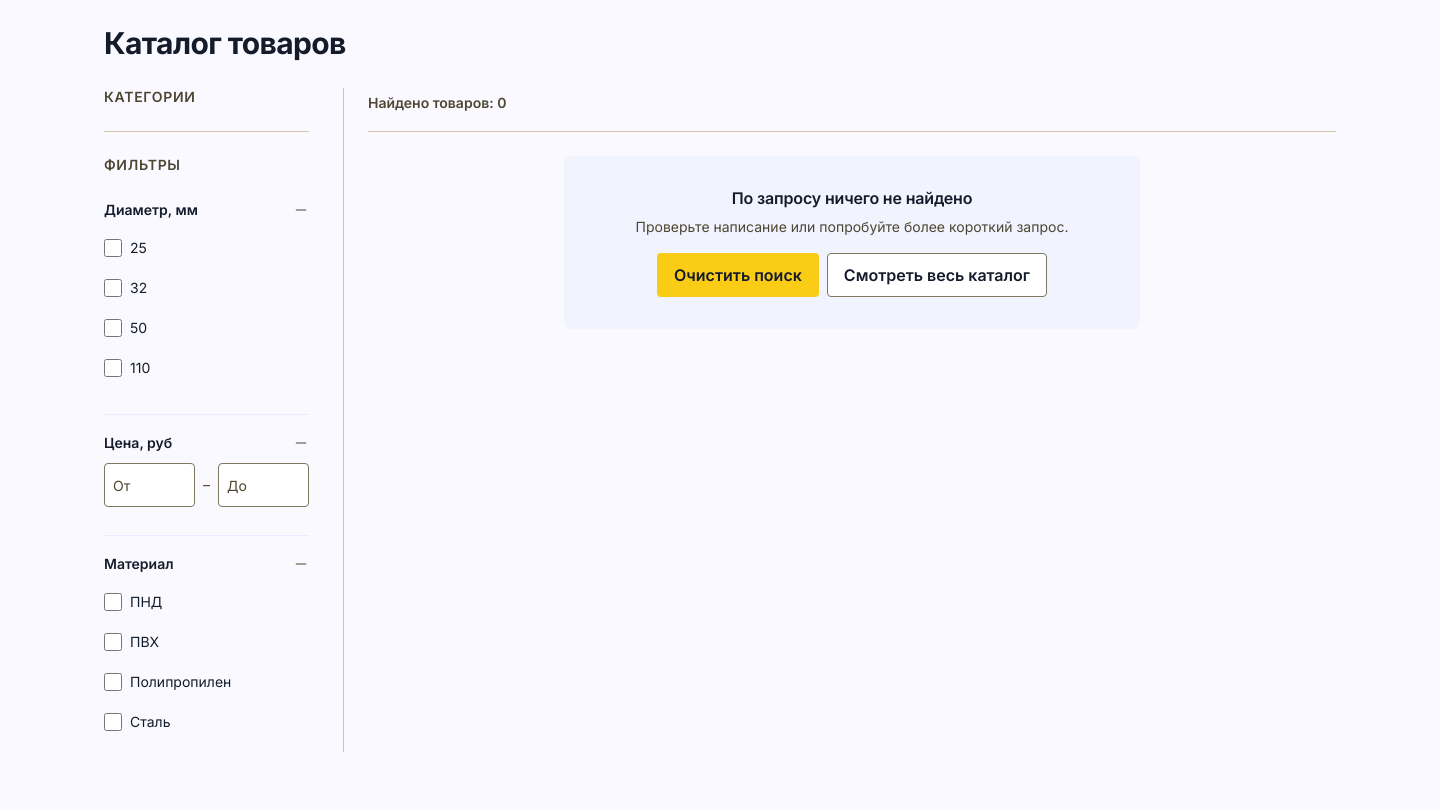
CatalogPage integration › shows an accessible empty search state and resets the query
This screenshot has width=1440, height=810.
Expected: the heading "По запросу ничего не найдено" is shown, [732,188,972,208]
Click the button "Очистить поиск". click: (738, 275)
box: [657,253,819,297]
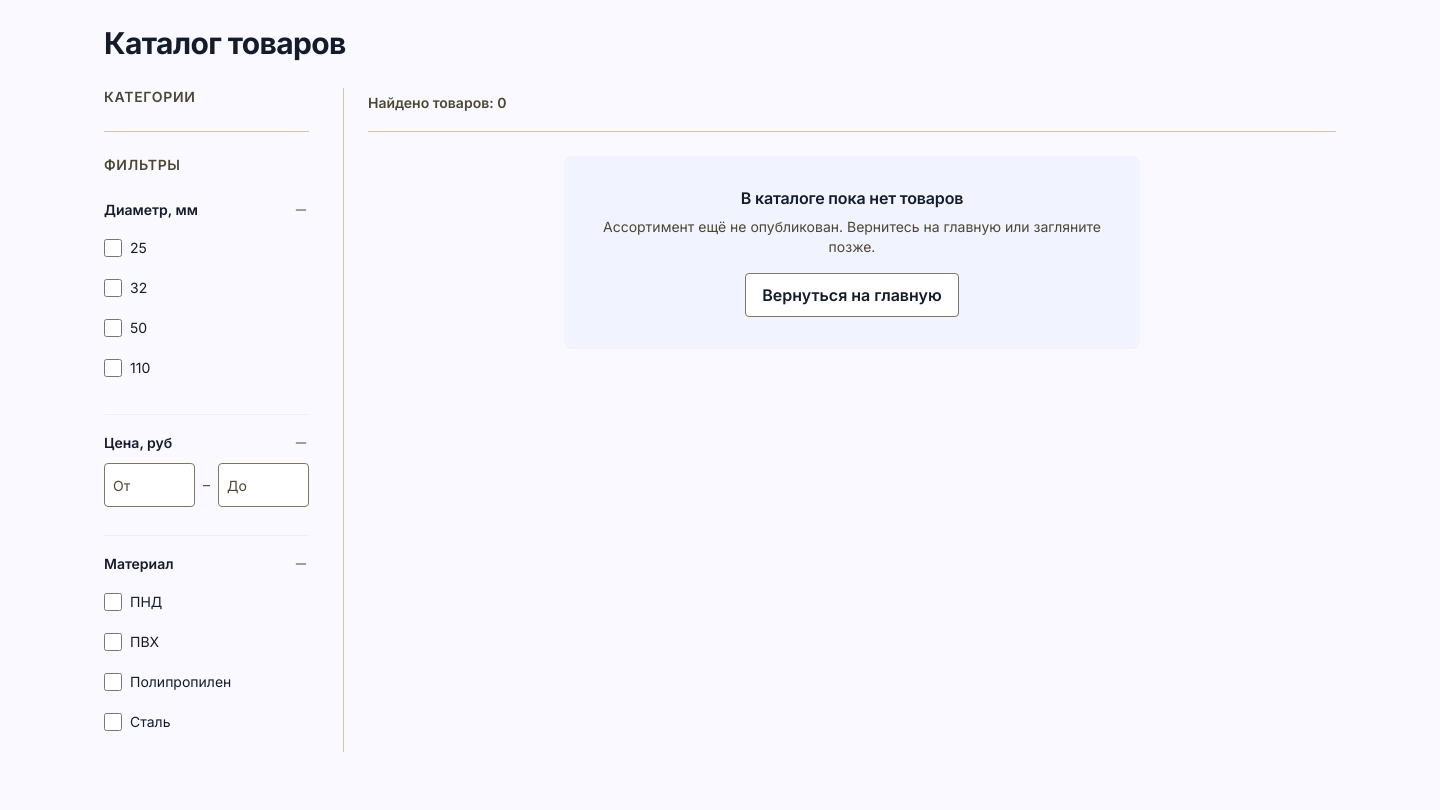
Result: the heading "В каталоге пока нет товаров" is shown at [741,188,963,208]
